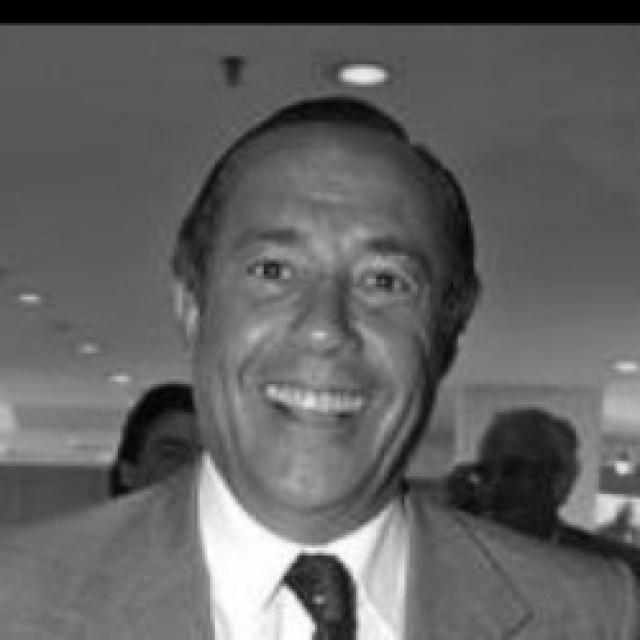real: (197, 118, 448, 510), (225, 237, 429, 303)
